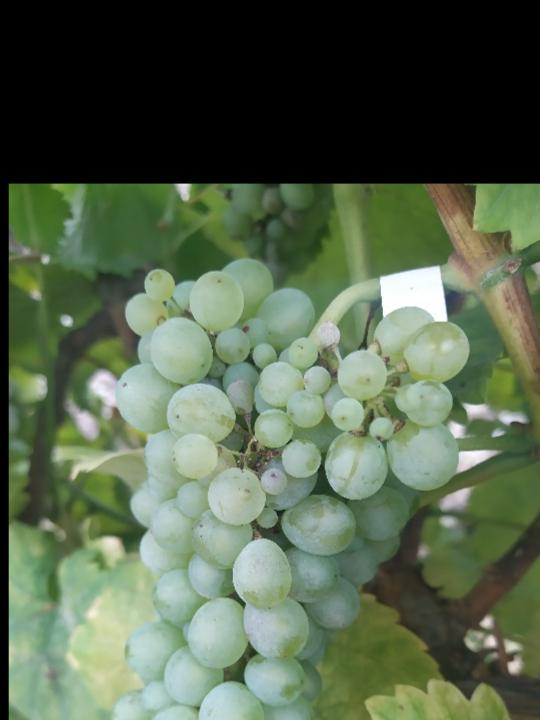grape: (101, 255, 472, 720)
